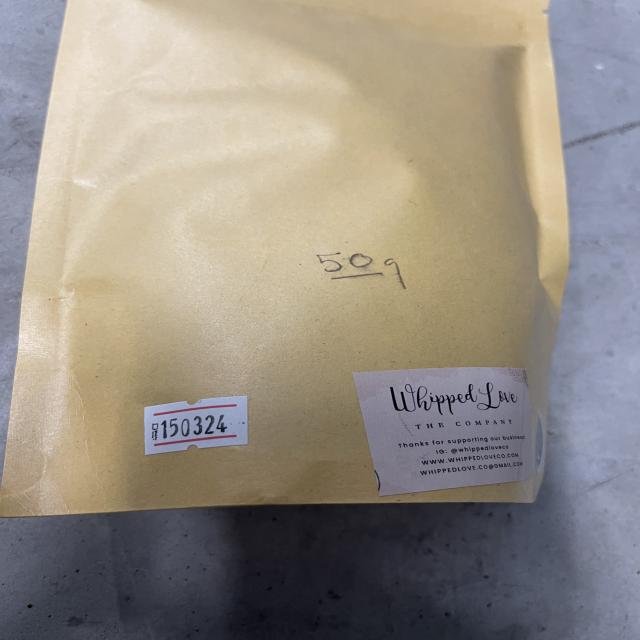object_name: (47, 2, 546, 508)
